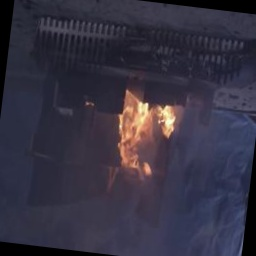fire: (99, 79, 192, 188)
